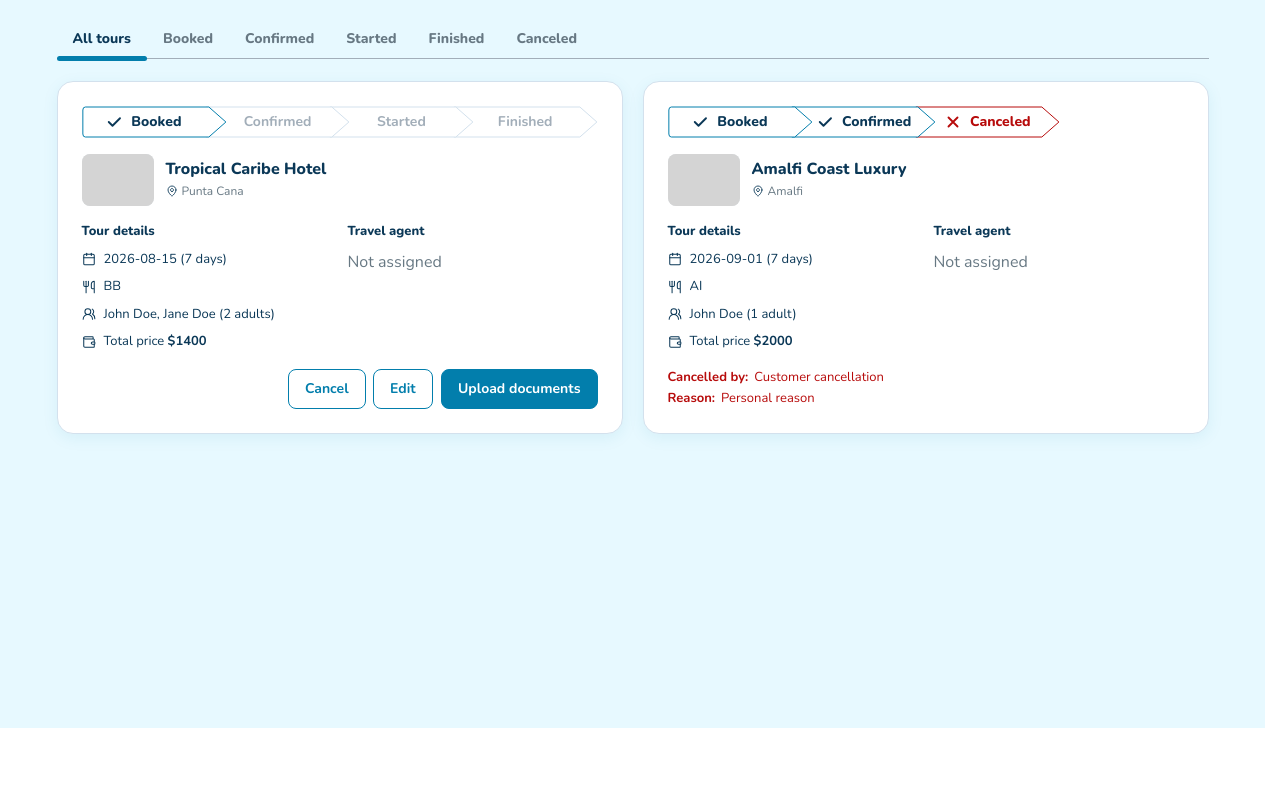
Test: MyToursPage Component › filters list when switching to "Booked" tab
Click the tab "Booked". click: click(188, 38)
box: left=147, top=16, right=229, bottom=61
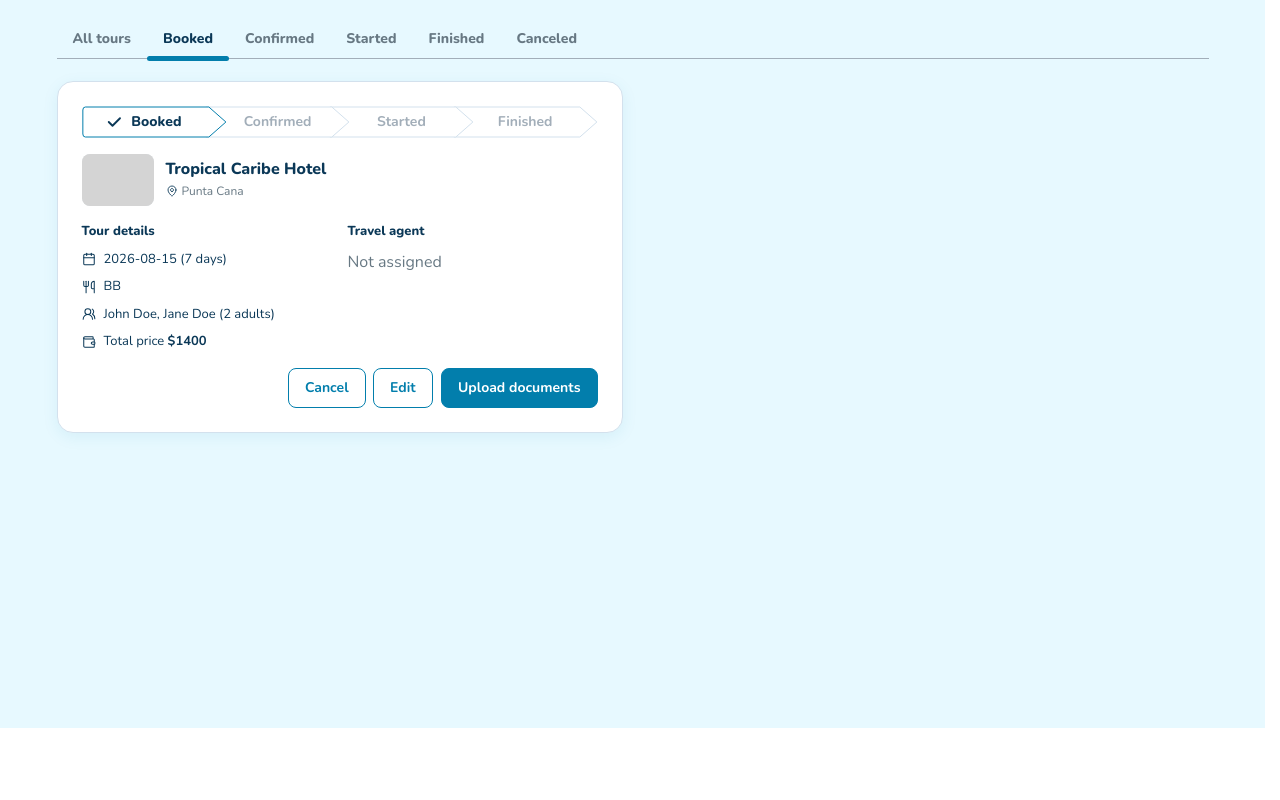
Expected: the heading "Tropical Caribe Hotel" is shown, left=166, top=160, right=326, bottom=180
Now the heading "Amalfi Coast Luxury" is gone
